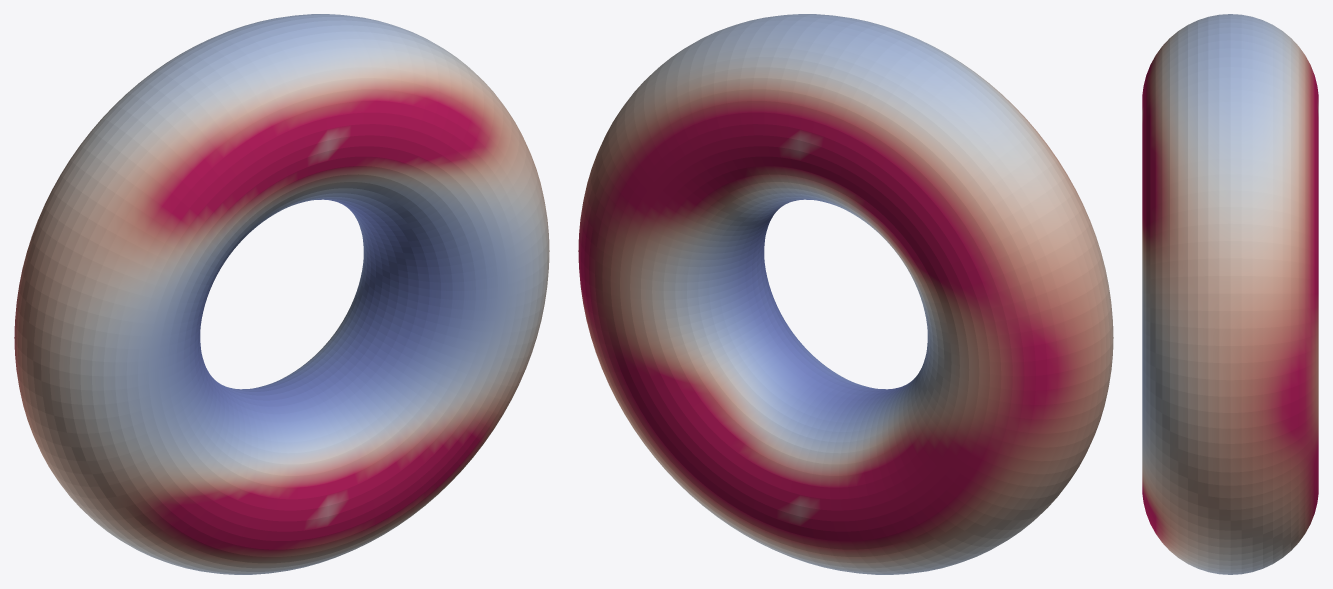
The picture shows the model from 3 angles, left to right: view 1: azimuth 30°, elevation 25°; view 2: azimuth 150°, elevation 25°; view 3: azimuth 270°, elevation 25°; orthographic projection. The views are drawn at different scales.
Visible parts, largest first — view 1: world; view 2: world; view 3: world.
Boxes of the visible parts, bbox=[...] form: world: bbox=[14, 14, 549, 574]; world: bbox=[578, 14, 1113, 574]; world: bbox=[1142, 14, 1318, 574].
Size of the model in its own units: 22.4 by 22.4 by 7.05.
